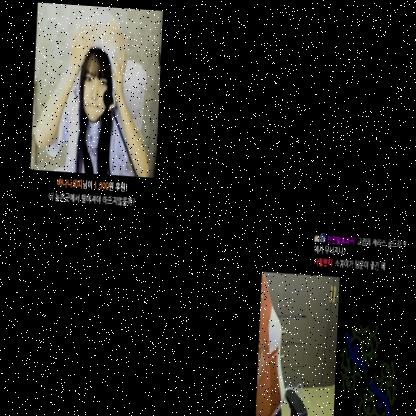donation: (31, 2, 163, 207)
